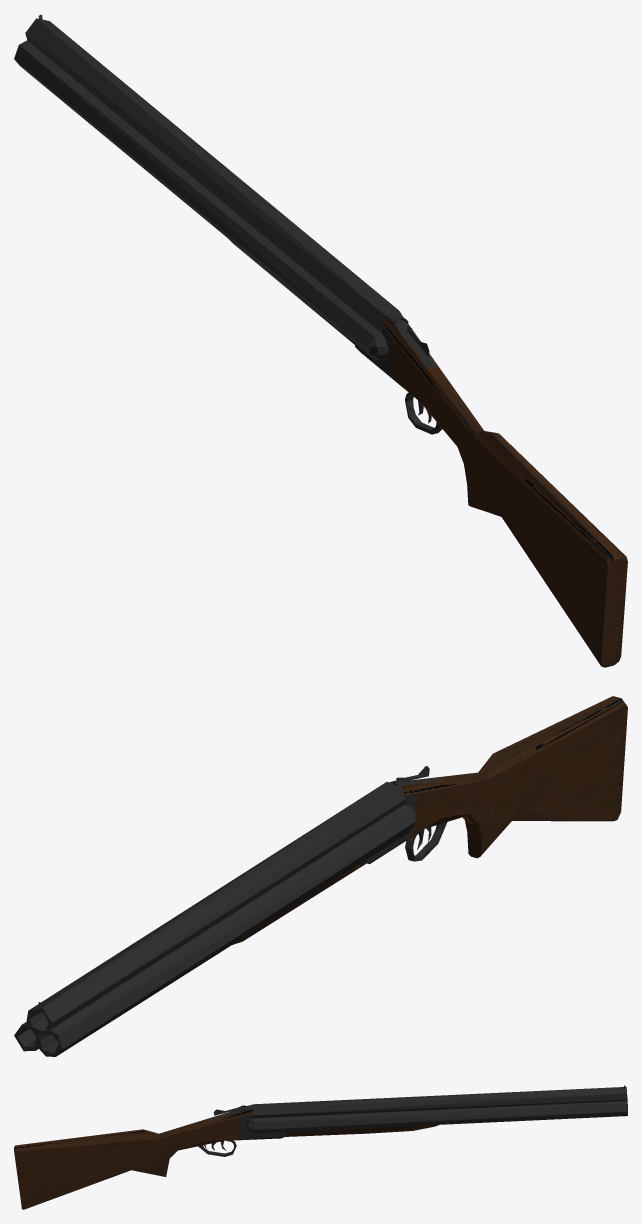
Rendered from tri shotgun world model.glb.
The picture shows the model from 3 angles, top to bottom: view 1: azimuth 30°, elevation 25°; view 2: azimuth 150°, elevation 25°; view 3: azimuth 270°, elevation 25°; orthographic projection. The views are drawn at different scales.
Parts seen in each view (by area): view 1: barrels, body; view 2: barrels, body; view 3: barrels, body.
Part boxes in pixels (x1,y1,x2,y2): barrels: (14,14,436,423); body: (354,312,627,667); barrels: (14,766,439,1056); body: (367,696,627,864); barrels: (204,1085,627,1150); body: (14,1105,285,1209).
Size of the model in its own units: 0.063 by 0.2856 by 1.29.
Materials: 3 (3 with a texture image).
